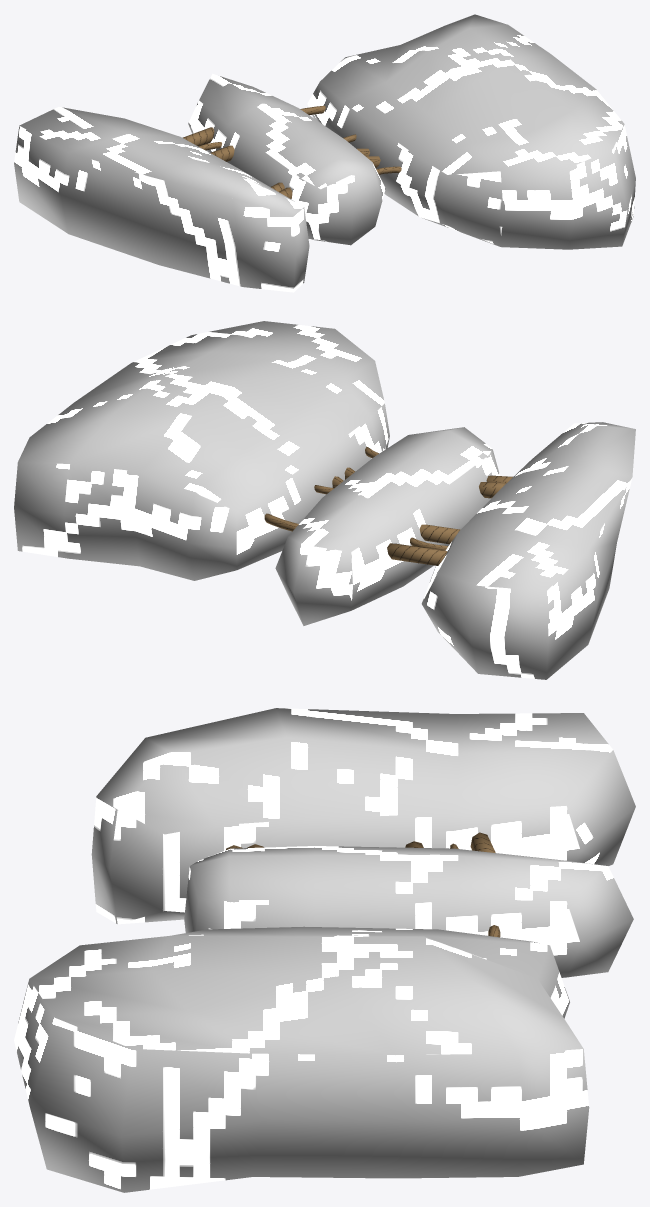
The model's file is PROJECT DREAM - Debris08.fbx.
3 renders of one model, top to bottom at view 1: azimuth 30°, elevation 25°; view 2: azimuth 150°, elevation 25°; view 3: azimuth 270°, elevation 25°, orthographic. The views are drawn at different scales.
Parts seen in each view (by area): view 1: Debris 08; view 2: Debris 08; view 3: Debris 08.
Part boxes in pixels (left/top/right/bottom): Debris 08: left=14, top=14, right=635, bottom=292; Debris 08: left=14, top=321, right=635, bottom=679; Debris 08: left=14, top=708, right=635, bottom=1192.
Bounding box in the file's own units: 546 × 131 × 406.
Materials: 2 (1 with a texture image).
